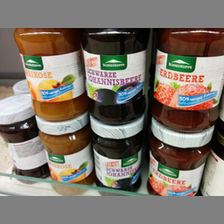jam: (152, 28, 224, 131), (81, 28, 151, 126), (13, 29, 86, 122), (145, 119, 214, 196), (34, 116, 92, 195), (1, 94, 51, 184), (89, 116, 145, 195)
